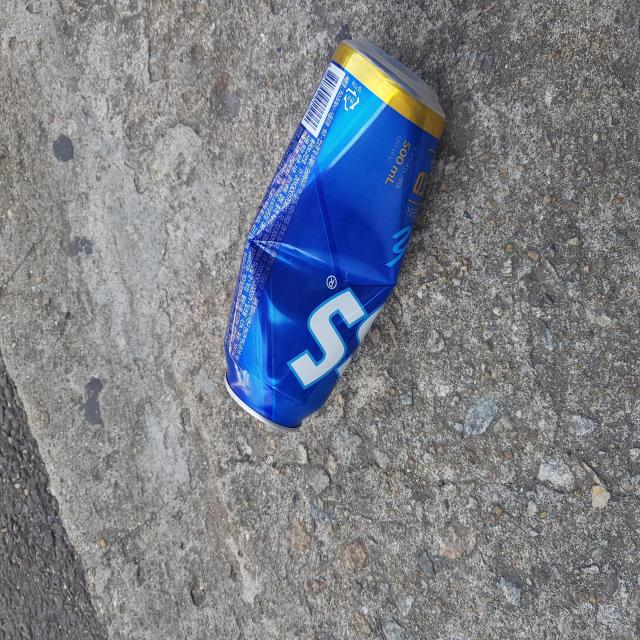can: (224, 39, 446, 430)
